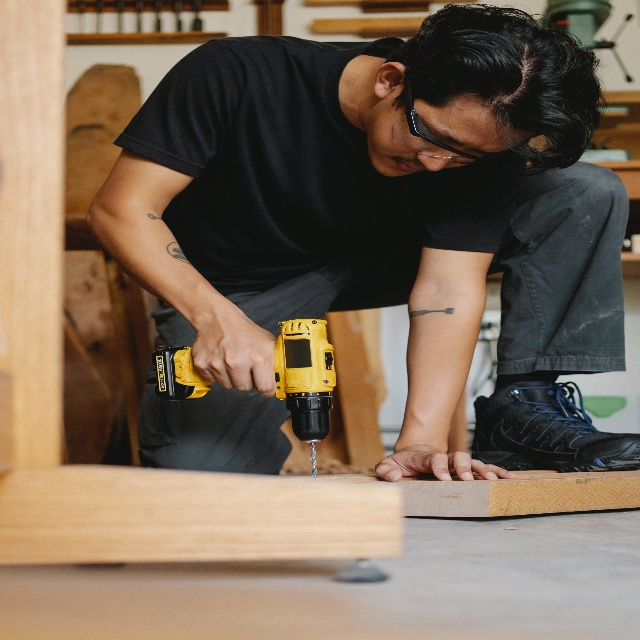Gafas: (392, 63, 486, 166)
Sin_guantes: (191, 309, 277, 398), (374, 446, 517, 482)
